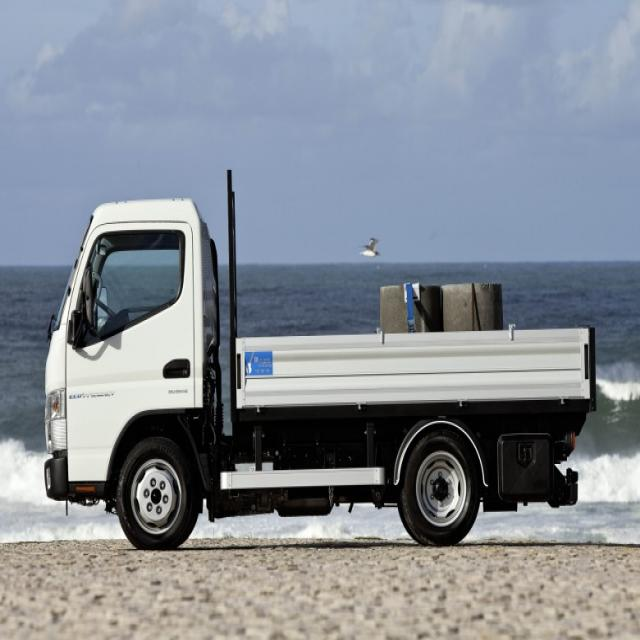truck: (43, 168, 600, 546)
